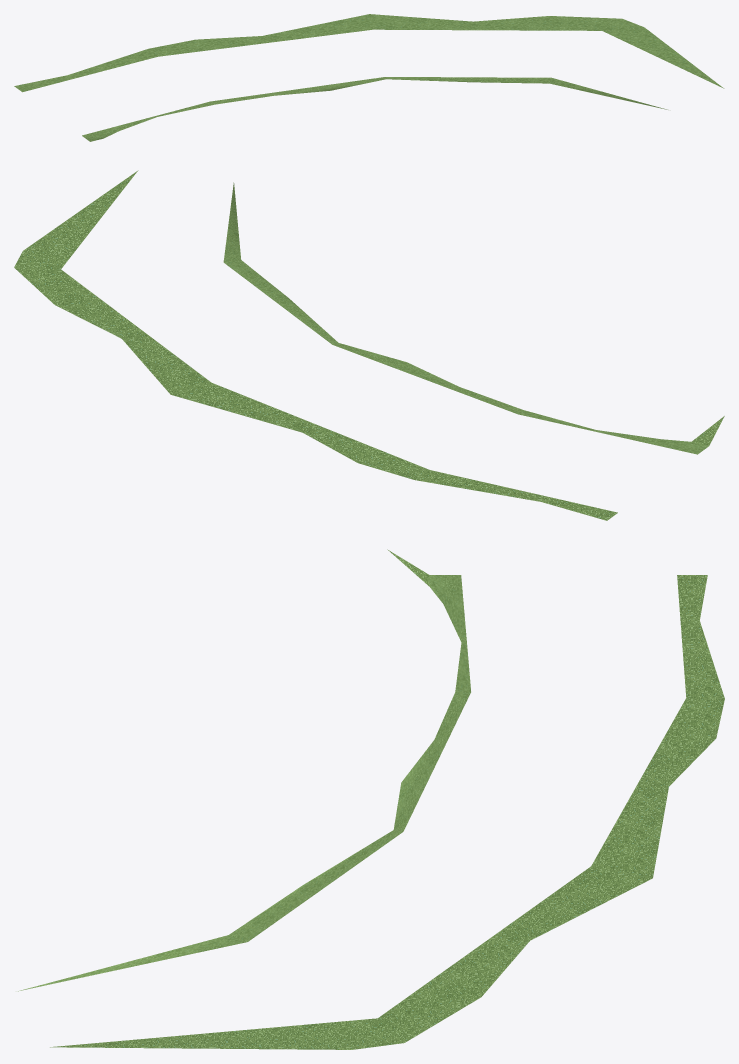
The model's file is kd_stage_13612f_3_50.glb.
3 renders of one model, top to bottom at view 1: azimuth 30°, elevation 25°; view 2: azimuth 150°, elevation 25°; view 3: azimuth 270°, elevation 25°, orthographic. The views are drawn at different scales.
Visible parts, largest first — view 1: kd_stage_13612f_3_50; view 2: kd_stage_13612f_3_50; view 3: kd_stage_13612f_3_50.
Boxes of the visible parts, x1,y1,x2,y2 form: kd_stage_13612f_3_50: [14, 14, 724, 141]; kd_stage_13612f_3_50: [14, 170, 724, 520]; kd_stage_13612f_3_50: [18, 549, 724, 1049].
Size of the model in its own units: 23.36 by 0.5957 by 14.78.
Materials: 1 (1 with a texture image).
